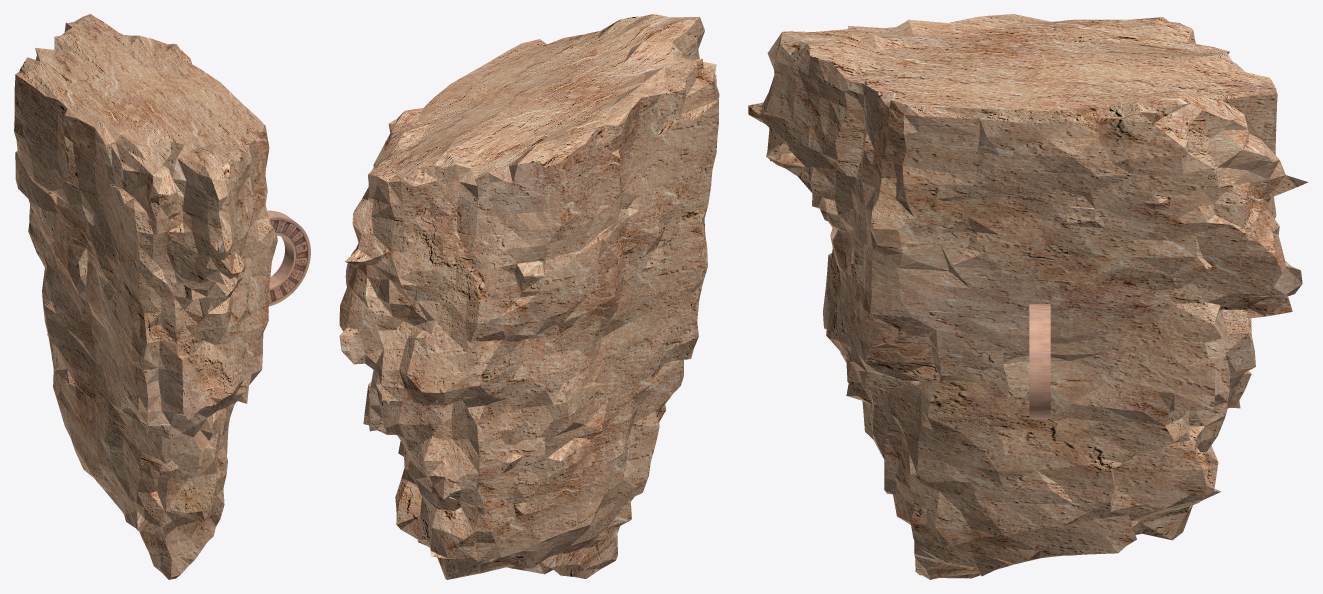
Rendered from Roca_canasta.obj.
The picture shows the model from 3 angles, left to right: view 1: azimuth 30°, elevation 25°; view 2: azimuth 150°, elevation 25°; view 3: azimuth 270°, elevation 25°; orthographic projection. The views are drawn at different scales.
Parts seen in each view (by area): view 1: Cubo_12_Piedras, Cubo_Material.001; view 2: Cubo_12_Piedras; view 3: Cubo_12_Piedras, Cubo_Material.001.
Part boxes in pixels (<box>): Cubo_12_Piedras: <box>14,14,277,579</box>; Cubo_Material.001: <box>267,210,310,306</box>; Cubo_12_Piedras: <box>339,14,719,579</box>; Cubo_12_Piedras: <box>748,14,1308,579</box>; Cubo_Material.001: <box>1029,304,1050,418</box>.
Bounding box in the file's own units: 23.87 × 41.36 × 39.
